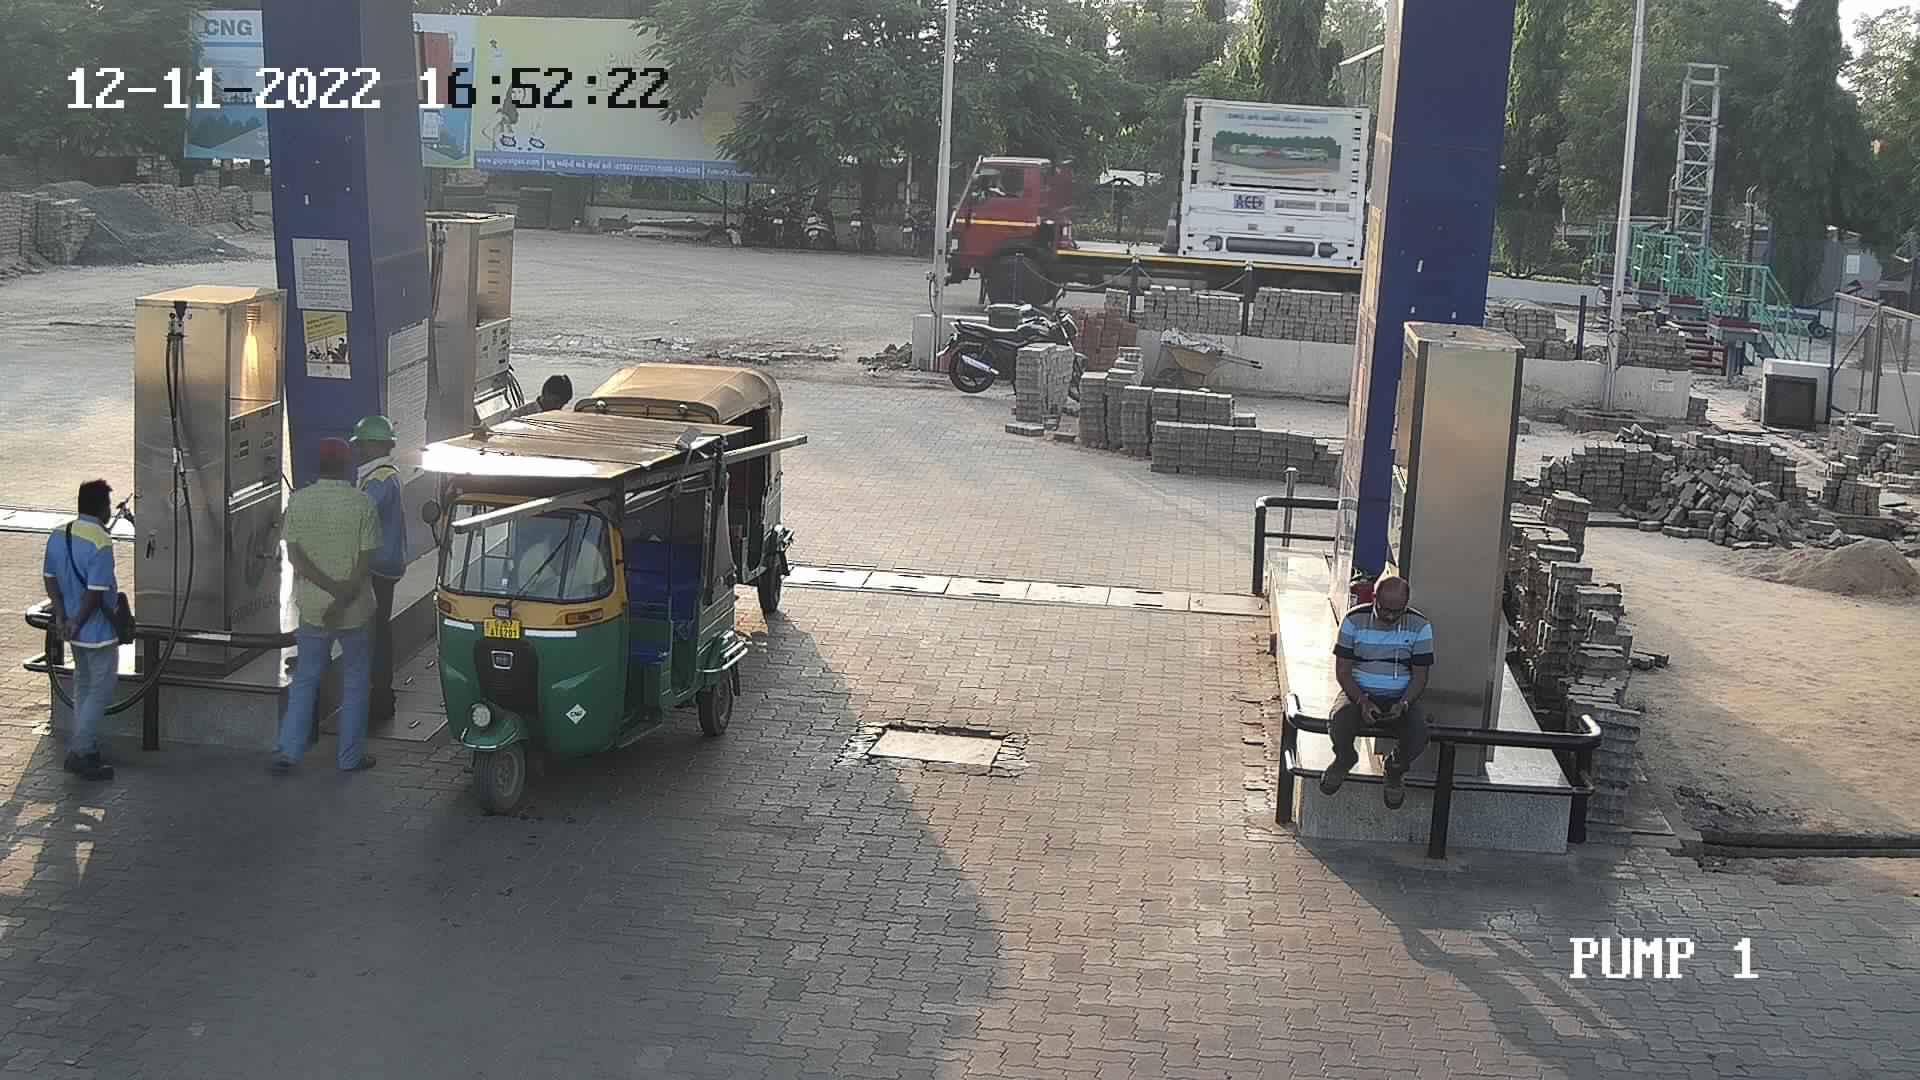Auto: (406, 396, 814, 815), (553, 339, 800, 615)
Bike: (927, 285, 1106, 425), (799, 189, 851, 253), (735, 185, 781, 248), (767, 189, 808, 248), (843, 200, 882, 257), (895, 191, 927, 253)
HMV: (928, 83, 1379, 316)
Others: (36, 473, 133, 785), (334, 406, 413, 725)
